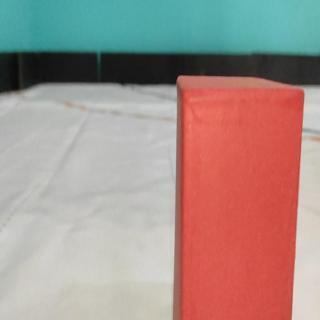redbox: (177, 77, 292, 320)
